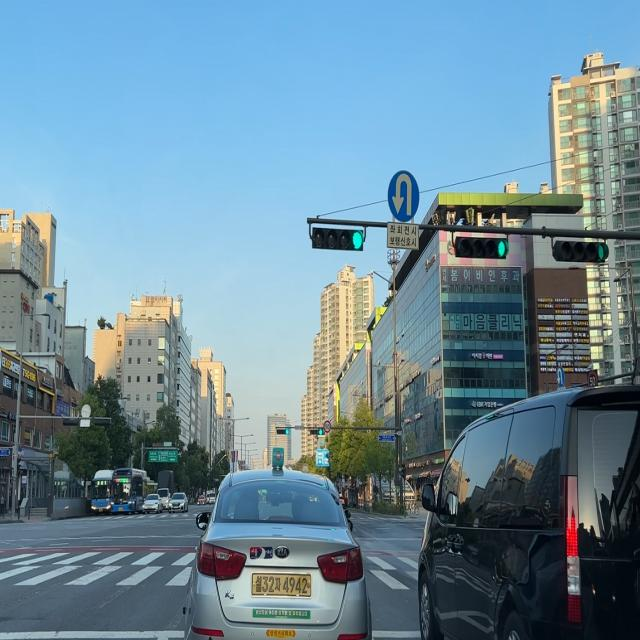Green Light: (351, 228, 364, 250), (597, 242, 607, 261), (497, 240, 507, 258), (285, 429, 289, 434), (319, 429, 322, 435)
